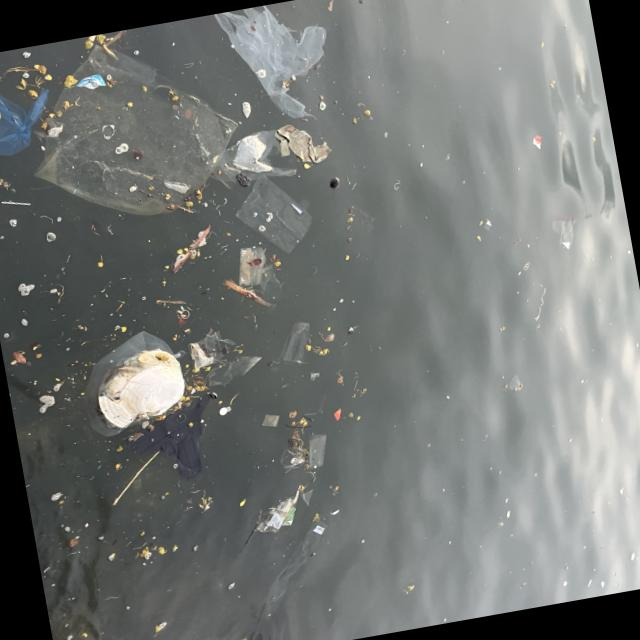foam: (93, 360, 187, 430)
plastic bag: (41, 43, 234, 214), (218, 1, 326, 124), (219, 121, 302, 190), (1, 91, 46, 168)
